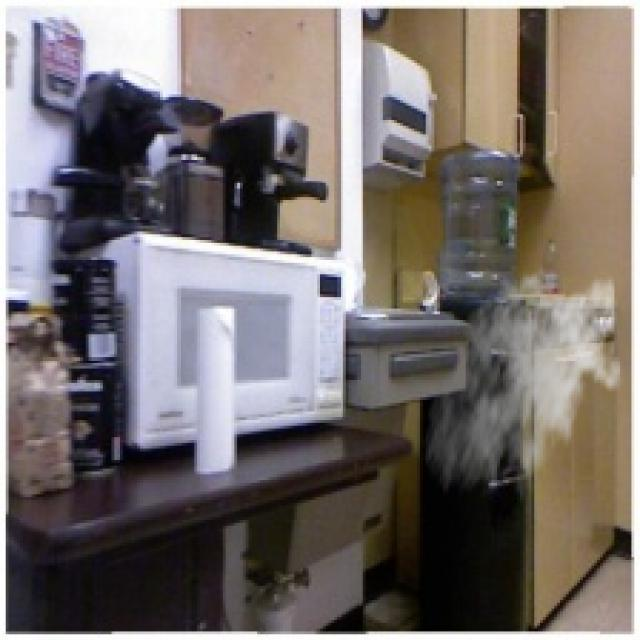Smoke: (423, 262, 623, 514)
